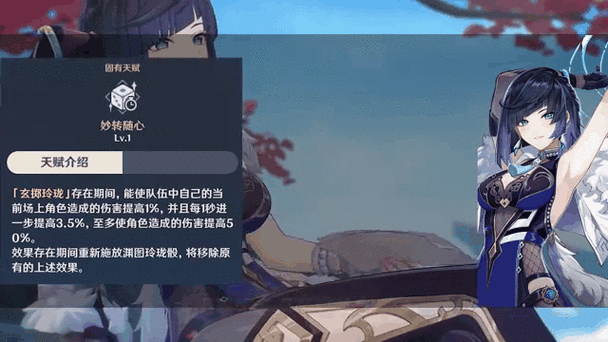夜兰: (475, 69, 608, 309)
